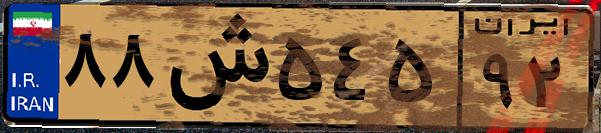2: (525, 38, 570, 115)
4: (330, 28, 385, 110)
5: (270, 28, 330, 110), (385, 28, 445, 110)
8: (57, 26, 110, 100), (110, 28, 158, 98)
9: (475, 38, 525, 113)
ش: (158, 12, 270, 120)
